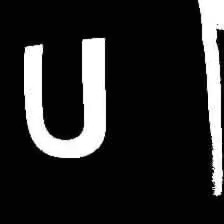LTR_U: (15, 29, 112, 162)
